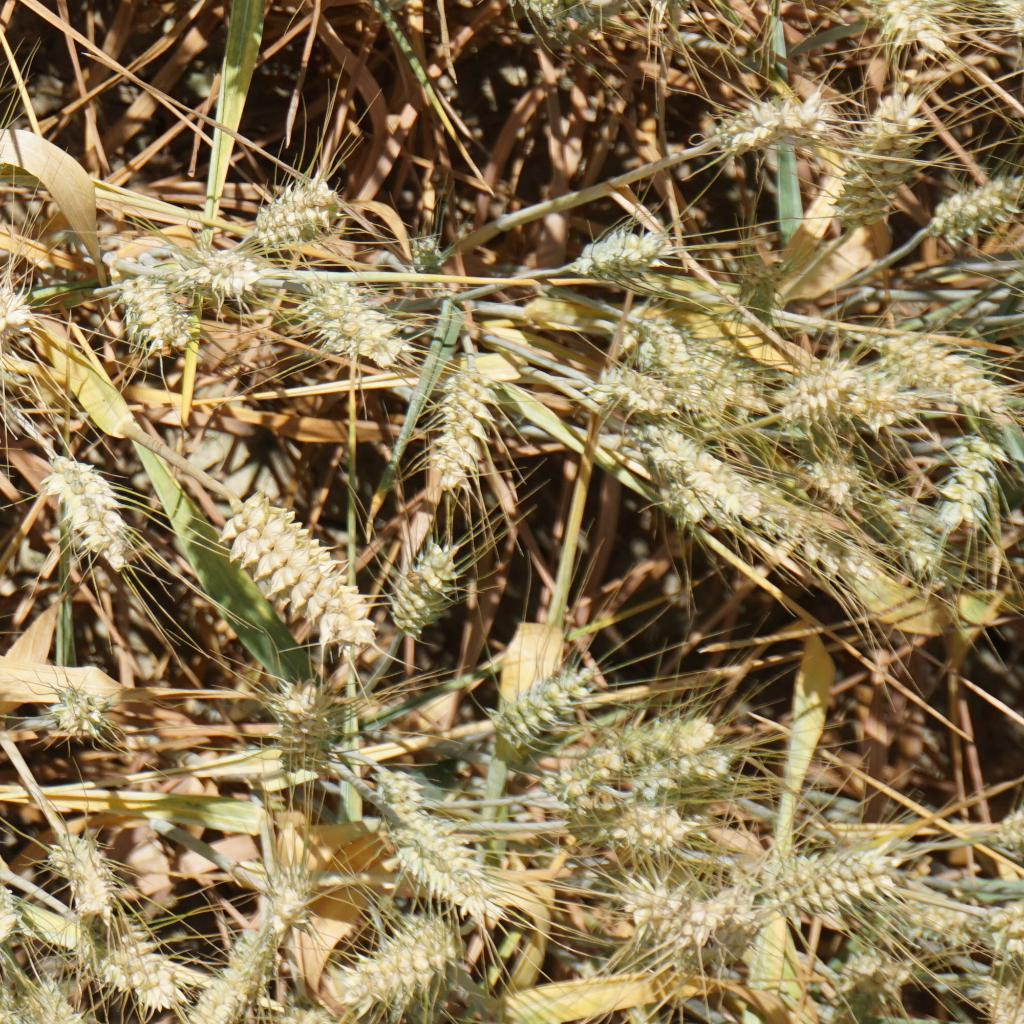0-0: (217, 484, 384, 662), (182, 864, 287, 1024), (560, 713, 751, 796), (829, 84, 930, 238), (667, 438, 798, 542), (549, 785, 721, 864), (382, 820, 501, 929), (742, 837, 910, 912), (278, 263, 404, 358), (486, 650, 608, 742), (338, 908, 457, 1001), (833, 882, 976, 958), (45, 459, 141, 569), (416, 367, 501, 491), (259, 678, 349, 788), (382, 528, 468, 642), (790, 507, 898, 597), (602, 863, 729, 937), (882, 340, 999, 418), (713, 82, 829, 156), (859, 486, 948, 579), (562, 215, 675, 288), (102, 273, 195, 361), (930, 424, 1007, 529), (926, 168, 1022, 248), (249, 168, 340, 241), (364, 753, 438, 841), (46, 826, 118, 912), (852, 0, 963, 55), (772, 358, 858, 422), (728, 244, 786, 331), (51, 678, 124, 745), (644, 429, 701, 513), (111, 932, 174, 1004), (188, 239, 260, 302), (674, 903, 754, 959), (590, 363, 670, 418), (644, 320, 718, 377), (798, 453, 870, 508), (843, 945, 909, 999), (246, 868, 314, 920), (505, 0, 606, 35), (403, 228, 450, 284), (0, 286, 31, 335), (0, 858, 16, 936), (627, 0, 700, 17)
